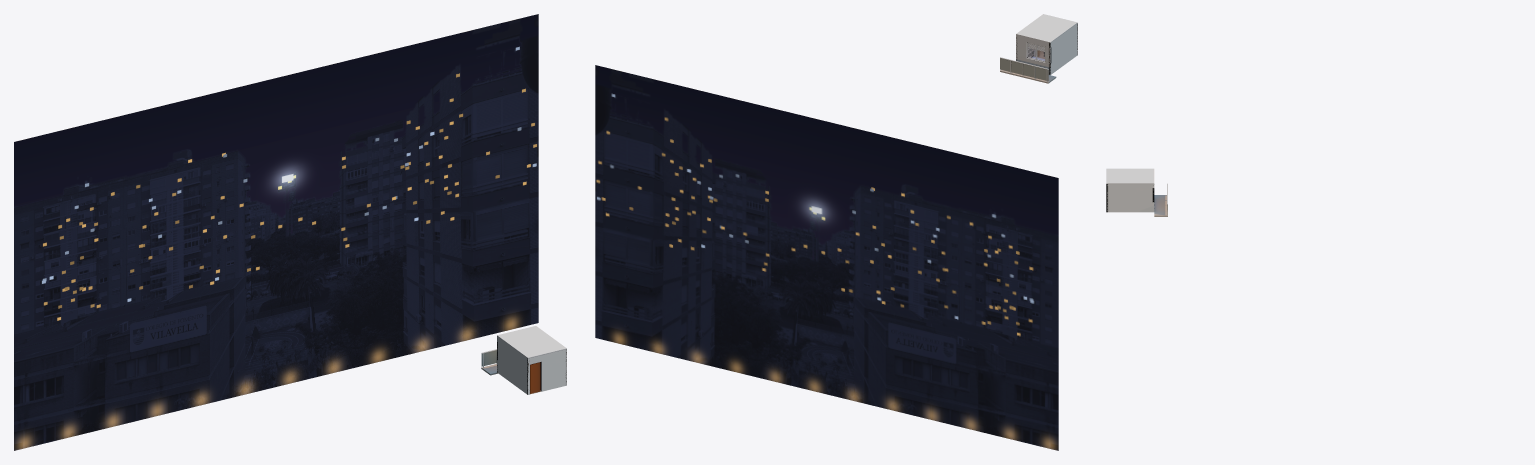
The model's file is cuarto.gltf.
3 views of the same model, side by side, from view 1: azimuth 30°, elevation 25°; view 2: azimuth 150°, elevation 25°; view 3: azimuth 270°, elevation 25° (orthographic). The views are drawn at different scales.
Parts seen in each view (by area): view 1: paisaje, paredes, techo; view 2: paisaje, paredes, techo, exterior; view 3: paredes, techo.
Part boxes in pixels (x1,y1,x2,y2): paisaje: [14, 14, 538, 450]; paredes: [497, 336, 566, 394]; techo: [497, 326, 566, 358]; paisaje: [595, 65, 1058, 450]; paredes: [1016, 23, 1077, 75]; techo: [1016, 14, 1077, 42]; exterior: [1000, 57, 1056, 83]; paredes: [1106, 184, 1154, 212]; techo: [1106, 168, 1154, 183].
Bounding box in the file's own units: 38.2 × 21.5 × 33.78.
Materials: 8 (5 with a texture image).
